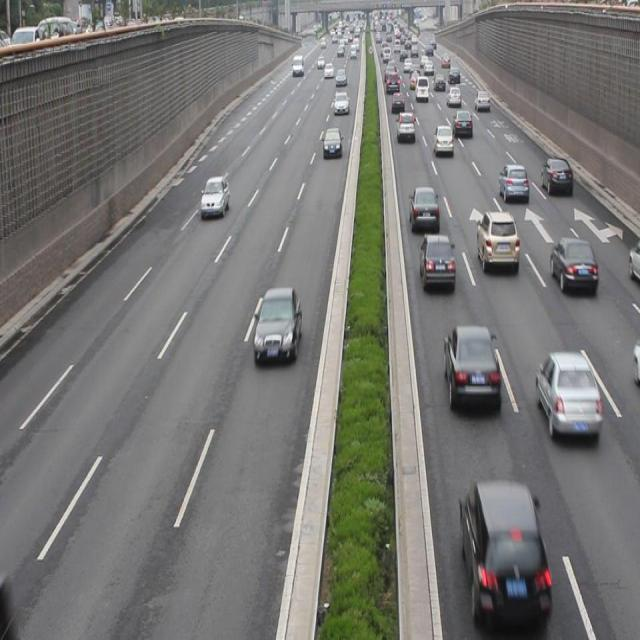car: (457, 478, 550, 627), (534, 348, 600, 438), (444, 322, 500, 412), (255, 288, 300, 360), (474, 208, 517, 270), (548, 237, 594, 292), (417, 236, 454, 290), (409, 186, 439, 231), (199, 174, 228, 218), (498, 164, 528, 205), (540, 157, 570, 196), (395, 111, 415, 143), (434, 125, 454, 157), (450, 109, 472, 138), (322, 127, 342, 155)
